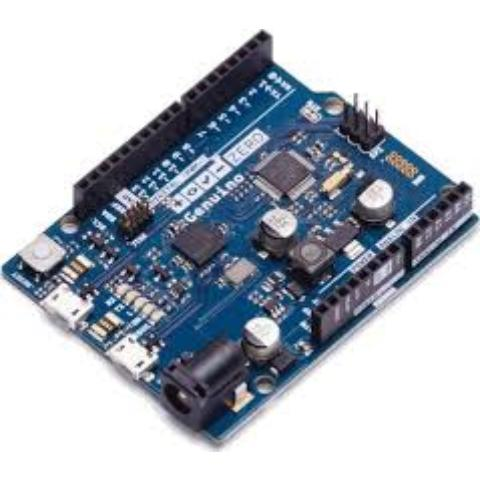Arduino-Zero: (8, 32, 478, 439)
